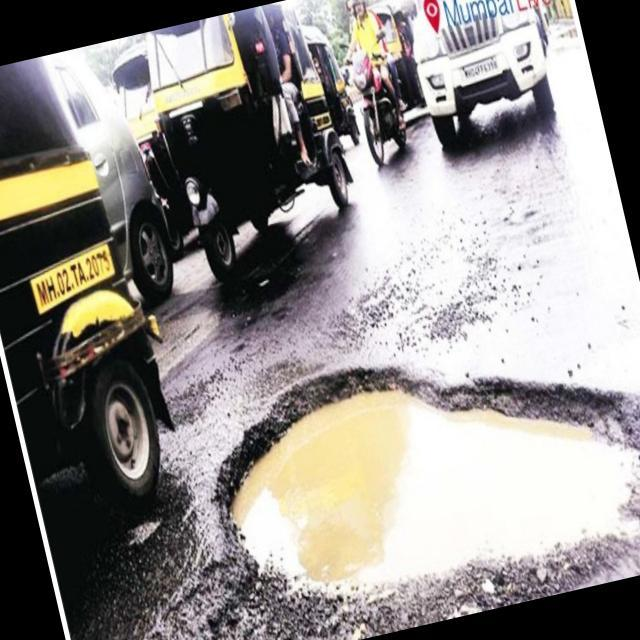Pothole: (192, 300, 640, 633)
